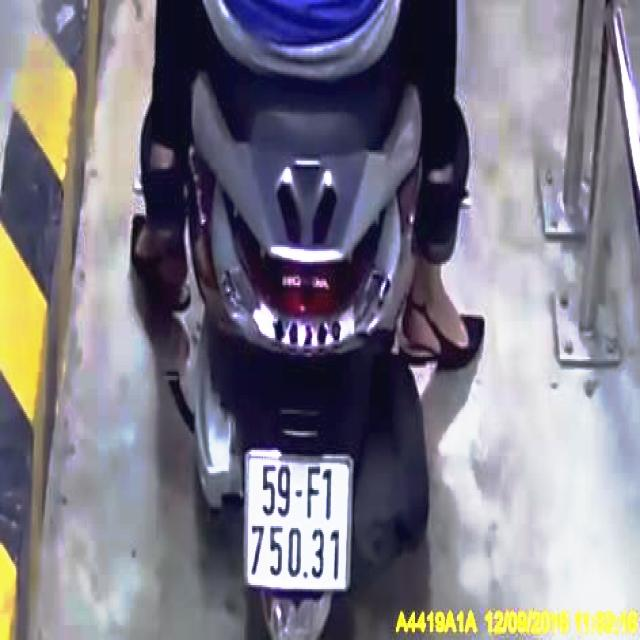license_plate: (247, 454, 351, 592)
